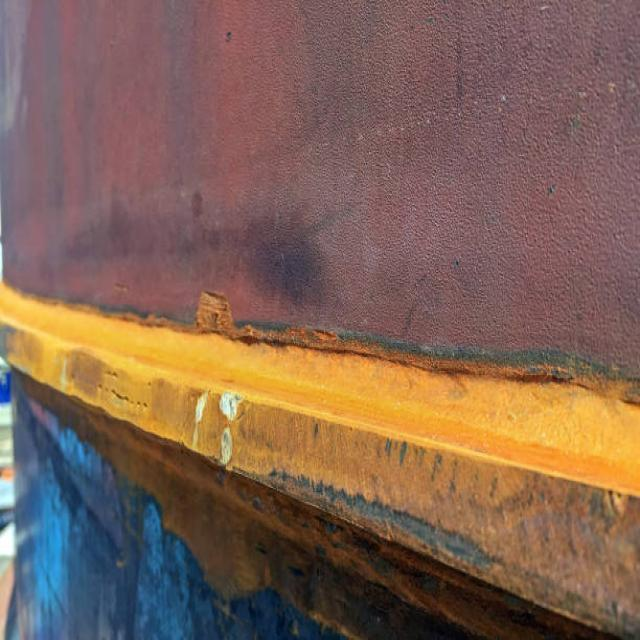Defect: (196, 315, 640, 407)
